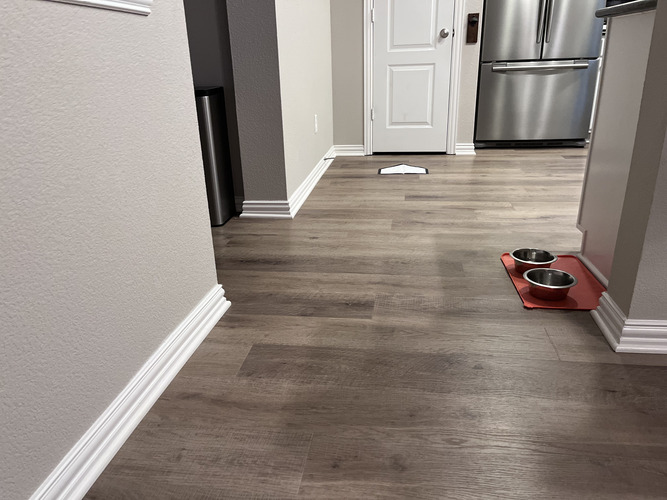homeplate: (376, 163, 428, 175)
